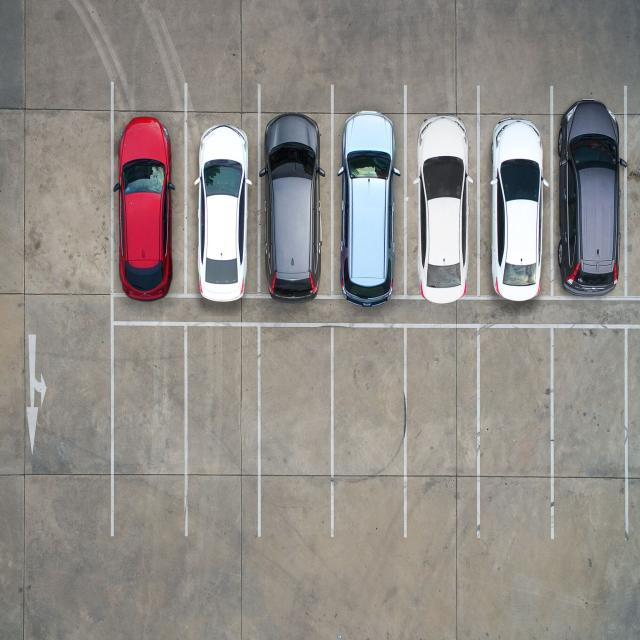cars: (556, 97, 626, 296), (259, 112, 325, 303), (338, 109, 400, 307), (114, 115, 174, 301), (414, 113, 472, 304), (489, 116, 548, 302), (194, 123, 251, 302)
